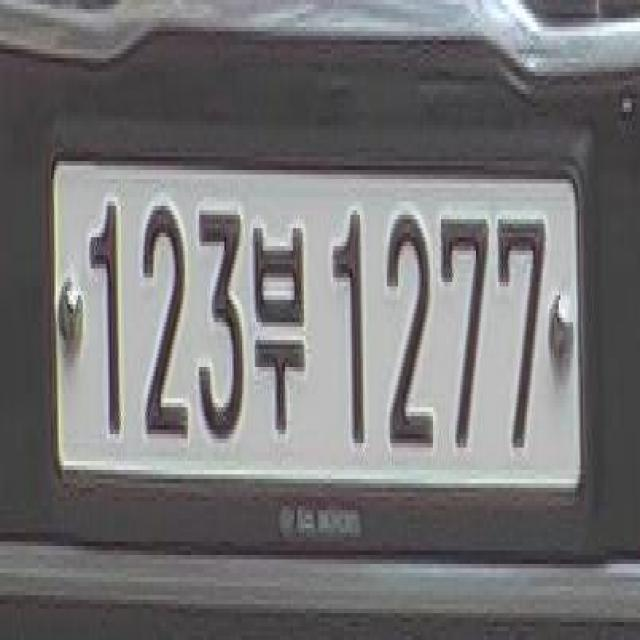illegal_plate: (51, 132, 590, 539)
